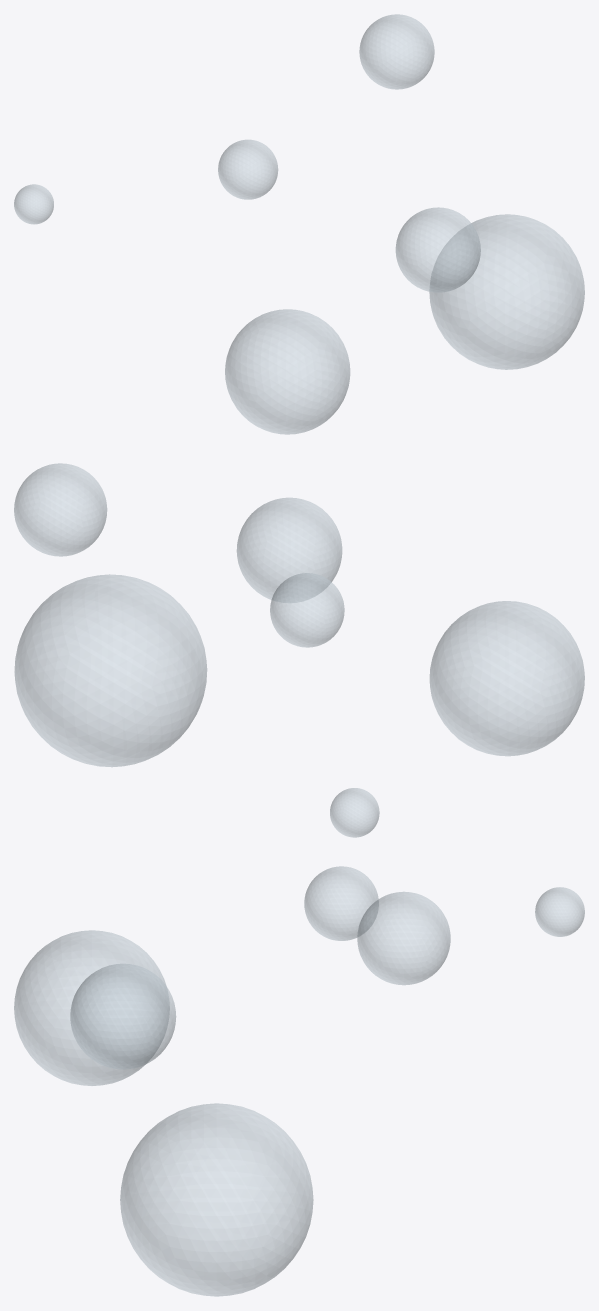
File: Starter_Transparent_Bubble_Cluster.glb
3 views of the same model, one above another, from view 1: azimuth 30°, elevation 25°; view 2: azimuth 150°, elevation 25°; view 3: azimuth 270°, elevation 25° (orthographic). The views are drawn at different scales.
Parts seen in each view (by area): view 1: bubble_3, bubble_1, bubble_2, bubble_5, bubble_4, bubble_6; view 2: bubble_3, bubble_1, bubble_2, bubble_5, bubble_4, bubble_6; view 3: bubble_3, bubble_1, bubble_2, bubble_5, bubble_4, bubble_6.
Part boxes in pixels (x1,y1,x2,y2): bubble_3: (429,214,584,369); bubble_1: (225,309,350,434); bubble_2: (395,207,480,292); bubble_5: (359,14,434,89); bubble_4: (218,139,278,199); bubble_6: (14,184,53,224); bubble_3: (14,574,207,767); bubble_1: (429,601,584,756); bubble_2: (236,497,342,602); bubble_5: (14,463,107,556); bubble_4: (270,573,344,647); bubble_6: (330,788,379,837); bubble_3: (120,1103,313,1296); bubble_1: (14,930,169,1085); bubble_2: (70,963,176,1069); bubble_5: (357,891,450,985); bubble_4: (304,866,378,940); bubble_6: (535,887,584,936).
Size of the model in its own units: 1.93 by 1.31 by 1.83.
